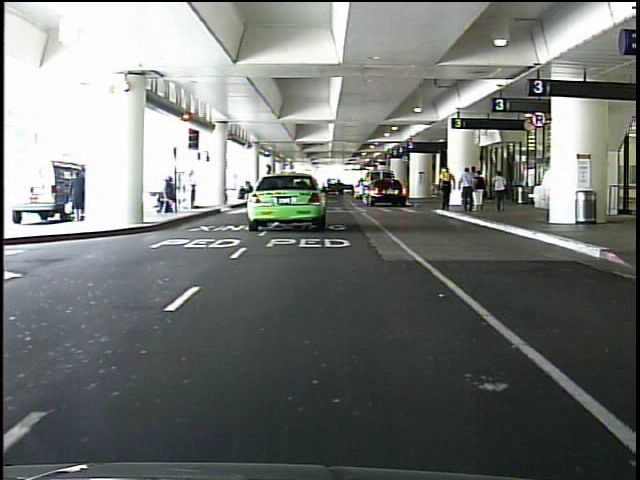person: (69, 169, 93, 224), (434, 164, 457, 216), (487, 171, 511, 217), (457, 166, 478, 215), (473, 170, 489, 215), (188, 169, 203, 213)
